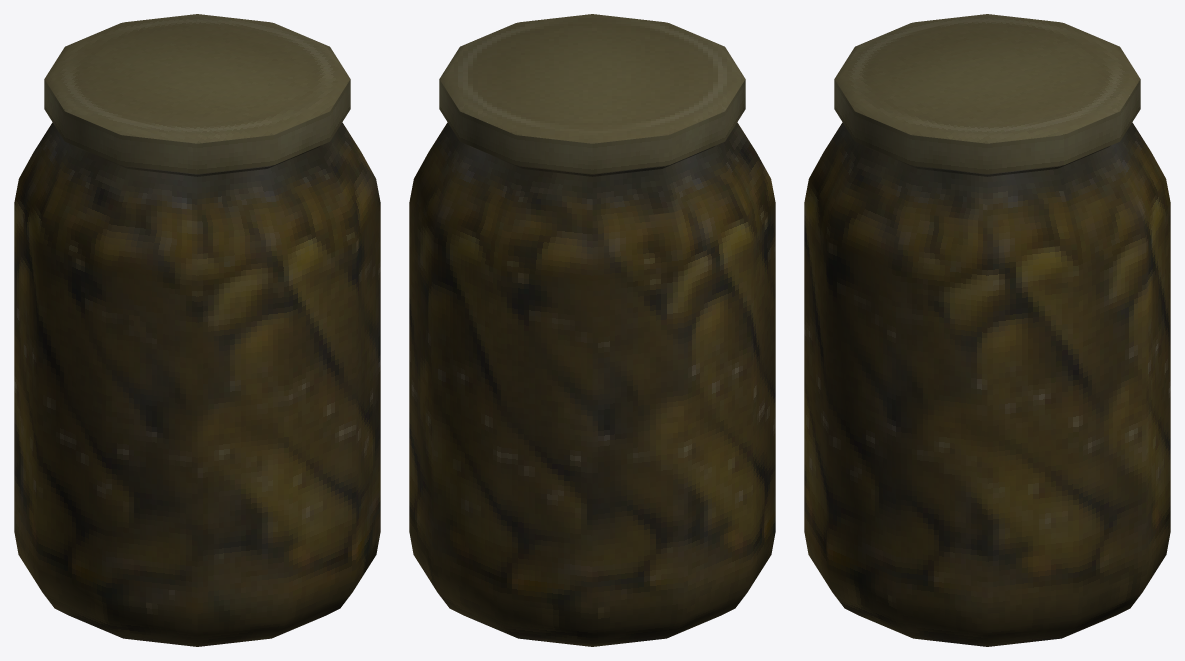
Rendered from pickles_jar_mp_1_small.glb.
3 views of the same model, side by side, from view 1: azimuth 30°, elevation 25°; view 2: azimuth 150°, elevation 25°; view 3: azimuth 270°, elevation 25° (orthographic).
Visible parts, largest first — view 1: pickles_jar_mp_1_small; view 2: pickles_jar_mp_1_small; view 3: pickles_jar_mp_1_small.
Part boxes in pixels (left/top/right/bottom): pickles_jar_mp_1_small: left=14, top=14, right=380, bottom=646; pickles_jar_mp_1_small: left=409, top=14, right=775, bottom=646; pickles_jar_mp_1_small: left=804, top=14, right=1170, bottom=646.
Size of the model in its own units: 0.1294 by 0.1982 by 0.1294.
Materials: 1 (1 with a texture image).
